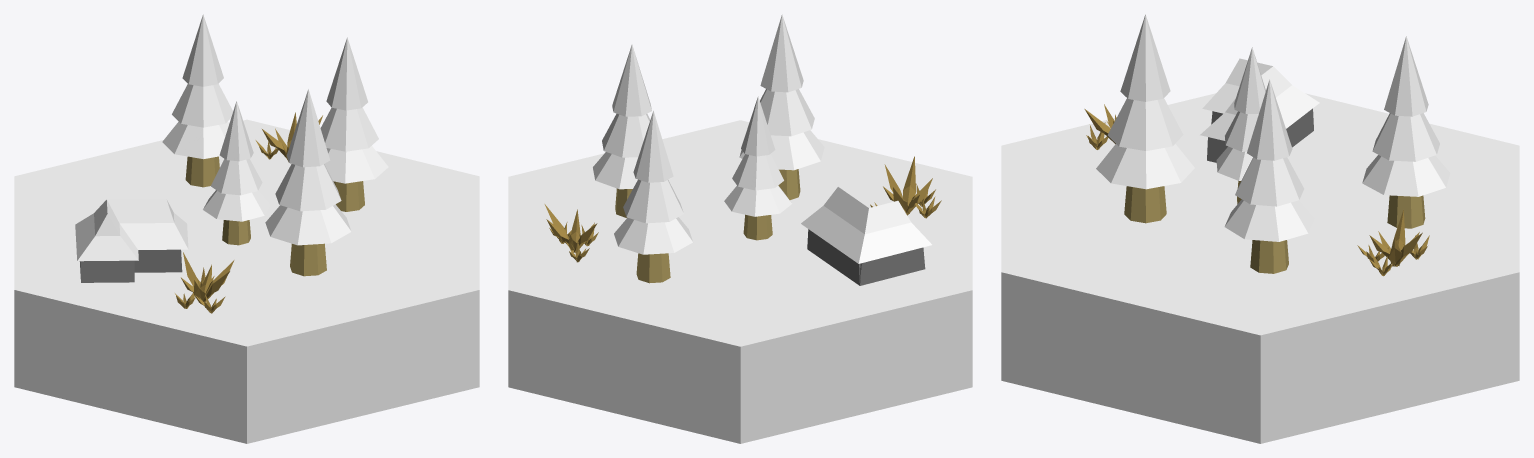
File: Casas_Pinos_Bajos_Nieve_1.fbx
The picture shows the model from 3 angles, left to right: view 1: azimuth 30°, elevation 25°; view 2: azimuth 150°, elevation 25°; view 3: azimuth 270°, elevation 25°; orthographic projection. The views are drawn at different scales.
Visible parts, largest first — view 1: Casas_Pinos_Bajos_Nieve_1; view 2: Casas_Pinos_Bajos_Nieve_1; view 3: Casas_Pinos_Bajos_Nieve_1.
Boxes of the visible parts, bbox=[...] form: Casas_Pinos_Bajos_Nieve_1: bbox=[14, 14, 479, 443]; Casas_Pinos_Bajos_Nieve_1: bbox=[508, 14, 972, 443]; Casas_Pinos_Bajos_Nieve_1: bbox=[1001, 14, 1519, 443].
Size of the model in its own units: 200 by 114 by 173.
